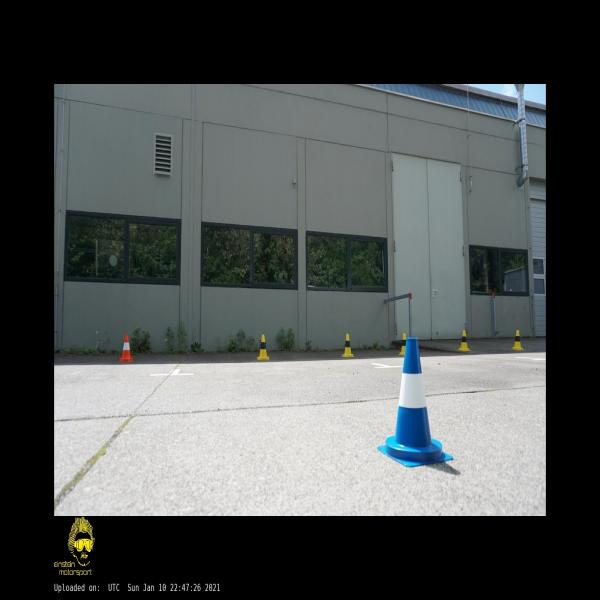blue_cone: (378, 338, 455, 467)
orange_cone: (119, 335, 134, 361)
yellow_cone: (257, 335, 270, 359), (458, 330, 471, 351), (342, 334, 353, 357), (512, 330, 523, 350), (399, 334, 406, 354)
